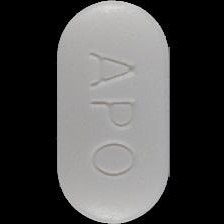60505-0096: (0, 0, 224, 224)
